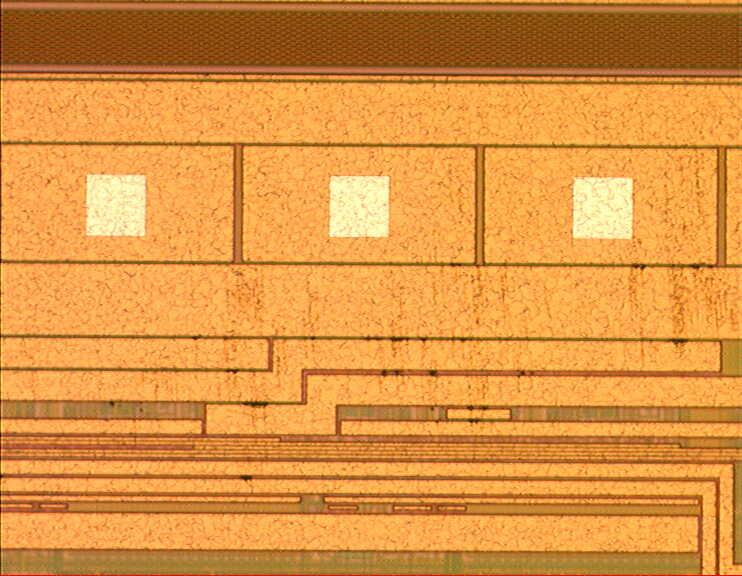SCRATCH: (95, 124, 742, 488)
